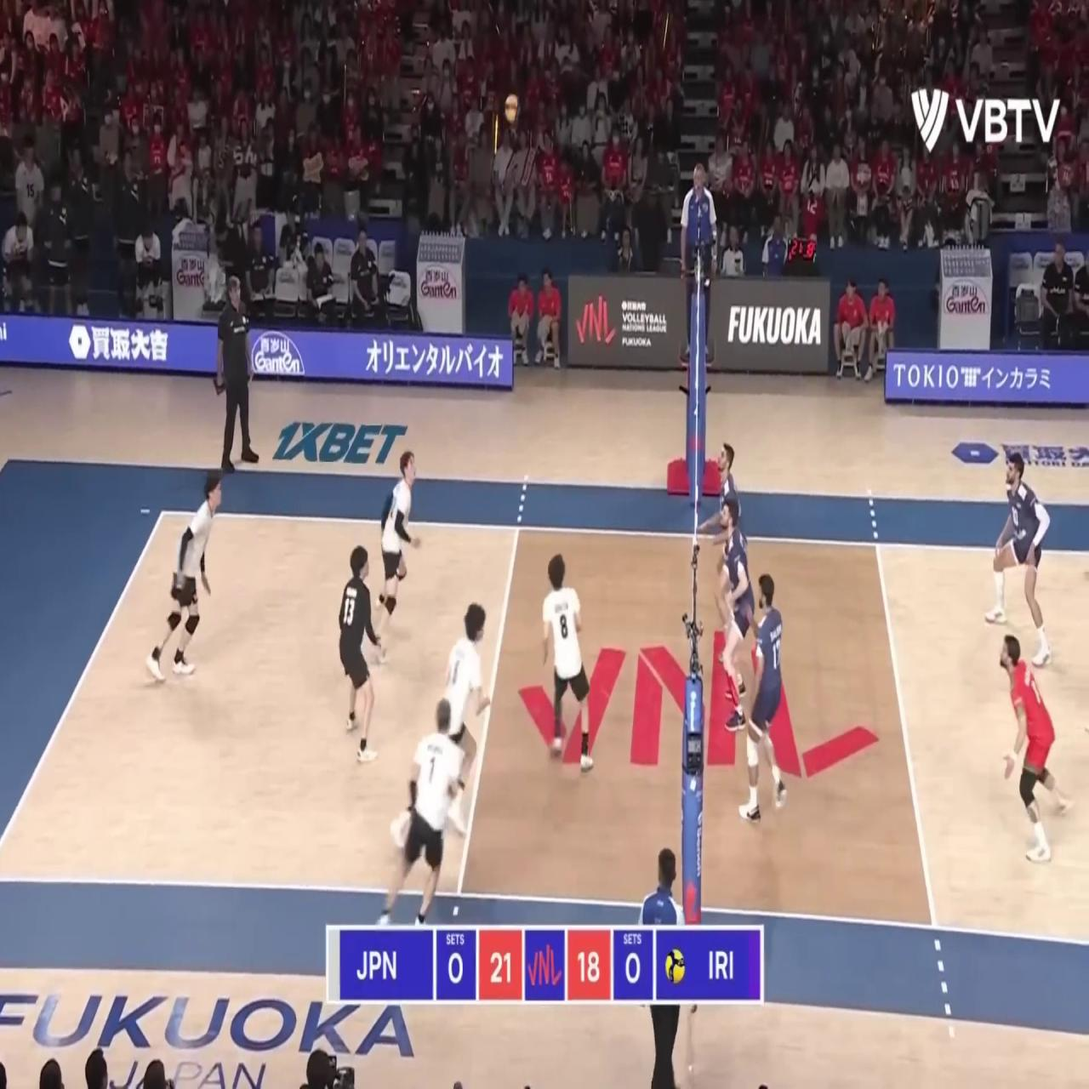ball: (504, 95, 519, 123)
